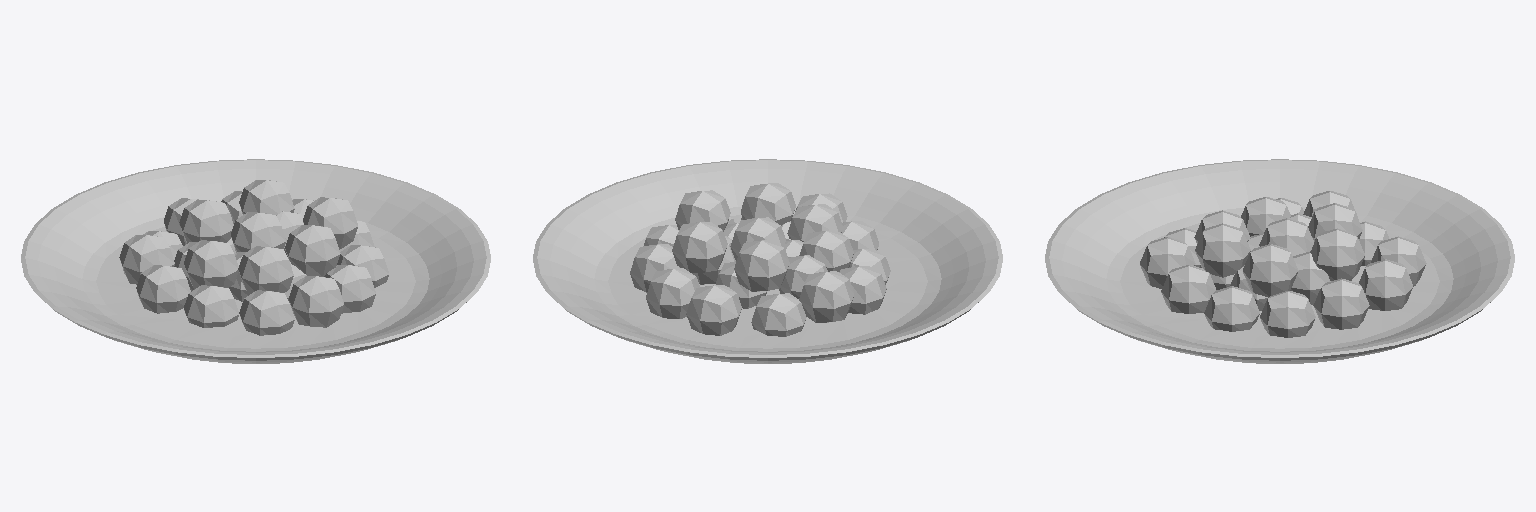
Rendered from biji biji.obj.
3 views of the same model, side by side, from view 1: azimuth 30°, elevation 25°; view 2: azimuth 150°, elevation 25°; view 3: azimuth 270°, elevation 25° (orthographic).
Parts seen in each view (by area): view 1: Cylinder, Cube.006, Cube.022, Cube.021, Cube.020, Cube.009, Cube.007, Cube.019, Cube.008, Cube.010, Cube.018, Cube.023 (+4 smaller); view 2: Cylinder, Cube.019, Cube.024, Cube.010, Cube, Cube.001, Cube.011, Cube.022, Cube.023, Cube.021, Cube.009, Cube.002 (+8 smaller); view 3: Cylinder, Cube.022, Cube.023, Cube.002, Cube.001, Cube.024, Cube.005, Cube.003, Cube.004, Cube.006, Cube, Cube.018 (+6 smaller).
Boxes of the visible parts, x1,y1,x2,y2 form: Cylinder: [21, 159, 490, 363]; Cube.006: [289, 276, 343, 327]; Cube.022: [285, 225, 340, 276]; Cube.021: [184, 240, 238, 288]; Cube.020: [238, 246, 293, 294]; Cube.009: [136, 265, 190, 313]; Cube.007: [239, 290, 294, 335]; Cube.019: [179, 200, 233, 243]; Cube.008: [184, 285, 238, 327]; Cube.010: [119, 235, 174, 284]; Cube.018: [231, 212, 285, 252]; Cube.023: [303, 197, 357, 248]; Cylinder: [533, 159, 1002, 363]; Cube.019: [734, 240, 789, 291]; Cube.024: [672, 222, 727, 272]; Cube.010: [799, 271, 853, 322]; Cube: [686, 285, 741, 335]; Cube.001: [646, 268, 699, 318]; Cube.011: [751, 293, 806, 336]; Cube.022: [741, 183, 795, 225]; Cube.023: [675, 190, 730, 231]; Cube.021: [799, 230, 853, 271]; Cube.009: [839, 266, 886, 314]; Cube.002: [630, 244, 679, 292]; Cylinder: [1045, 159, 1514, 363]; Cube.022: [1195, 223, 1250, 277]; Cube.023: [1243, 244, 1298, 297]; Cube.002: [1313, 278, 1369, 329]; Cube.001: [1359, 259, 1413, 310]; Cube.024: [1310, 228, 1364, 280]; Cube.005: [1161, 265, 1215, 313]; Cube.003: [1260, 291, 1315, 337]; Cube.004: [1204, 286, 1259, 331]; Cube.006: [1140, 237, 1195, 288]; Cube: [1371, 236, 1426, 285]; Cube.018: [1259, 218, 1313, 255].
Bounding box in the file's own units: 2.31 × 0.4897 × 2.31.